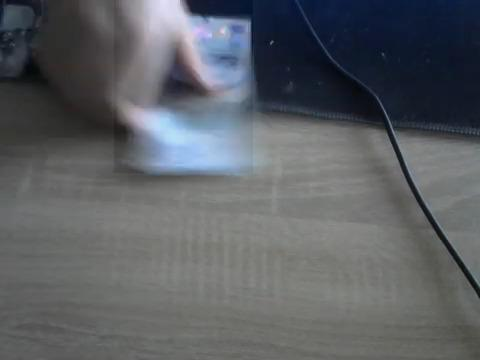20leva: (114, 0, 253, 173)
